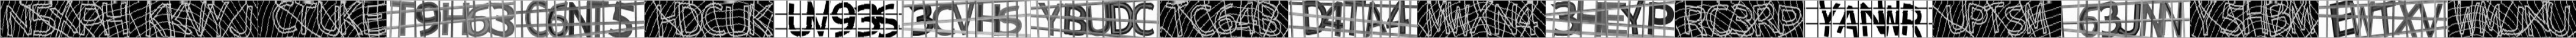3: (490, 2, 516, 38), (1552, 0, 1577, 38), (856, 0, 879, 38), (910, 2, 933, 38), (2100, 2, 2121, 38), (1732, 3, 1751, 38)
4: (1515, 2, 1539, 38), (1322, 0, 1345, 38), (1388, 0, 1410, 36), (1237, 2, 1257, 35)
5: (31, 0, 54, 38), (611, 2, 634, 38), (2221, 2, 2244, 38)
6: (468, 0, 491, 38), (1214, 3, 1237, 35), (549, 2, 568, 38), (2078, 3, 2098, 38)
9: (416, 0, 440, 38), (831, 2, 856, 38)
a: (1367, 0, 1387, 38), (1838, 5, 1856, 38)
b: (1063, 3, 1088, 38), (2265, 2, 2288, 38), (1258, 2, 1281, 36)
c: (271, 0, 294, 38), (703, 0, 724, 38), (1707, 3, 1730, 38), (524, 2, 545, 38), (933, 2, 954, 38), (1134, 3, 1155, 38), (1191, 5, 1214, 36)
d: (1303, 0, 1327, 38), (678, 2, 703, 38), (1111, 2, 1132, 38)
e: (361, 0, 386, 36), (2330, 2, 2354, 38), (1602, 2, 1625, 38)
h: (102, 2, 131, 38), (440, 2, 467, 38), (655, 2, 682, 38), (2242, 0, 2267, 38), (1577, 2, 1602, 38), (977, 2, 1000, 38)
j: (230, 5, 255, 38), (2500, 3, 2523, 38), (2119, 3, 2141, 38)
k: (749, 2, 772, 38), (166, 2, 187, 38), (340, 2, 361, 38), (146, 2, 164, 38)
m: (2288, 2, 2315, 38), (2026, 3, 2052, 38), (1426, 0, 1449, 38), (2479, 2, 2500, 38)
n: (7, 3, 31, 38), (2523, 3, 2548, 38), (1861, 2, 1884, 38), (2142, 2, 2165, 38), (568, 0, 590, 38), (1493, 3, 1516, 38), (2162, 2, 2183, 38)
p: (79, 2, 105, 38), (1648, 0, 1674, 36), (1966, 3, 1988, 35), (1778, 5, 1801, 33)
r: (1751, 2, 1776, 36), (1901, 2, 1922, 38), (1684, 3, 1705, 38)
s: (1000, 2, 1022, 38), (877, 2, 895, 38), (2006, 5, 2026, 38)
t: (389, 0, 414, 38), (1165, 2, 1189, 38), (1345, 0, 1367, 38), (296, 0, 315, 38), (2374, 2, 2394, 38), (591, 0, 609, 38), (1985, 2, 2006, 33)
u: (1943, 0, 1968, 38), (726, 2, 751, 38), (789, 0, 812, 38), (317, 0, 338, 38), (2548, 3, 2571, 38), (1088, 2, 1109, 38)
v: (186, 0, 209, 38), (810, 0, 830, 38), (2420, 3, 2441, 38), (954, 2, 974, 38)
w: (2453, 0, 2479, 38), (1878, 2, 1902, 38), (1447, 2, 1470, 38), (2353, 3, 2374, 38)
x: (2395, 0, 2418, 38), (54, 0, 76, 38), (1470, 2, 1492, 38)
y: (1038, 2, 1063, 38), (207, 2, 230, 38), (1819, 0, 1840, 38), (2193, 0, 2215, 38), (1625, 0, 1644, 38)
